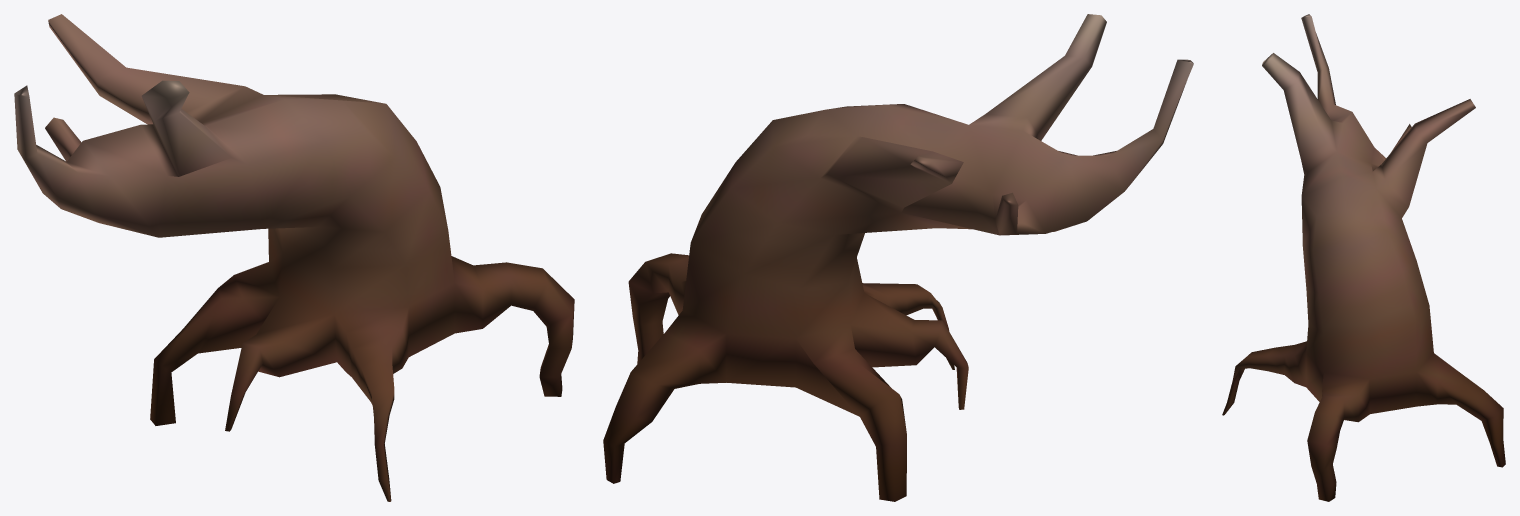
File: M_Root_Stump04.fbx
3 renders of one model, left to right at view 1: azimuth 30°, elevation 25°; view 2: azimuth 150°, elevation 25°; view 3: azimuth 270°, elevation 25°, orthographic. The views are drawn at different scales.
Parts seen in each view (by area): view 1: M_Root_Stump04; view 2: M_Root_Stump04; view 3: M_Root_Stump04.
Boxes of the visible parts, <box> form: M_Root_Stump04: <box>14,14,574,501</box>; M_Root_Stump04: <box>603,14,1193,501</box>; M_Root_Stump04: <box>1222,14,1505,501</box>.
Size of the model in its own units: 291 by 217 by 183.
1 material, 1 textured.
